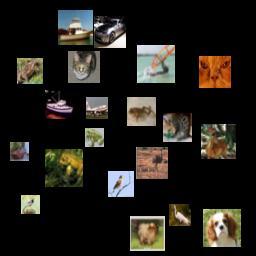airplane: (86, 97, 108, 119)
automobile: (94, 16, 126, 48), (10, 142, 29, 161)
bird: (136, 147, 168, 179), (108, 171, 134, 197), (169, 204, 191, 226), (21, 195, 40, 214)
cat: (199, 56, 231, 88), (68, 51, 100, 83), (163, 113, 192, 142)
deer: (201, 124, 236, 159)
dog: (203, 209, 241, 247), (130, 216, 165, 251)
frog: (45, 149, 83, 187), (127, 97, 156, 126), (17, 58, 43, 84), (85, 128, 104, 147)
ship: (137, 45, 175, 83), (58, 10, 93, 45), (45, 90, 74, 119)
